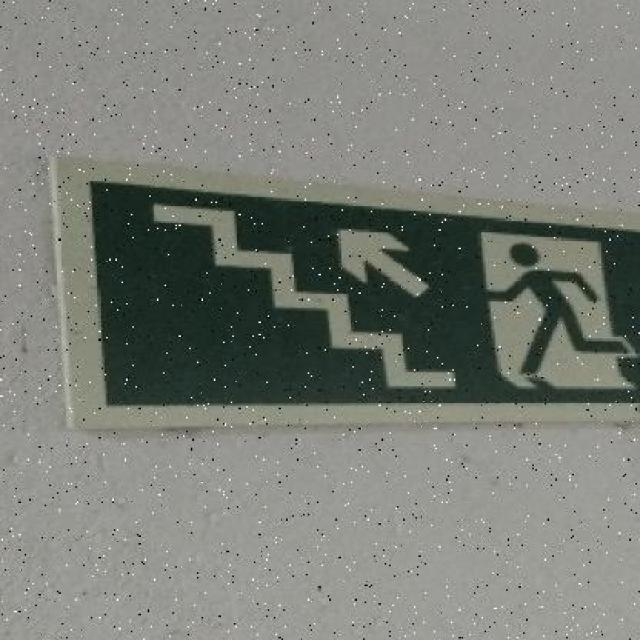exit_sign: (34, 136, 638, 442)
